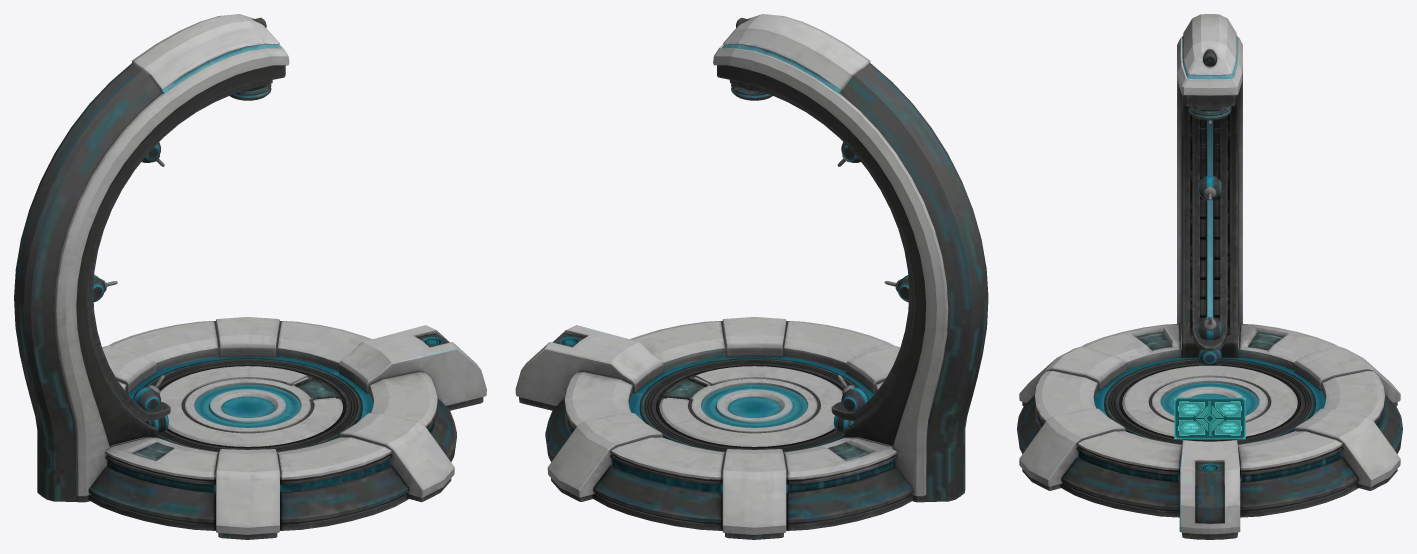
Rendered from SK_AncientFabricator_7ca164.glb.
3 renders of one model, left to right at view 1: azimuth 30°, elevation 25°; view 2: azimuth 150°, elevation 25°; view 3: azimuth 270°, elevation 25°, orthographic. The views are drawn at different scales.
Bounding box in the file's own units: 5.41 × 4.89 × 4.28.
3 materials, 3 textured.
